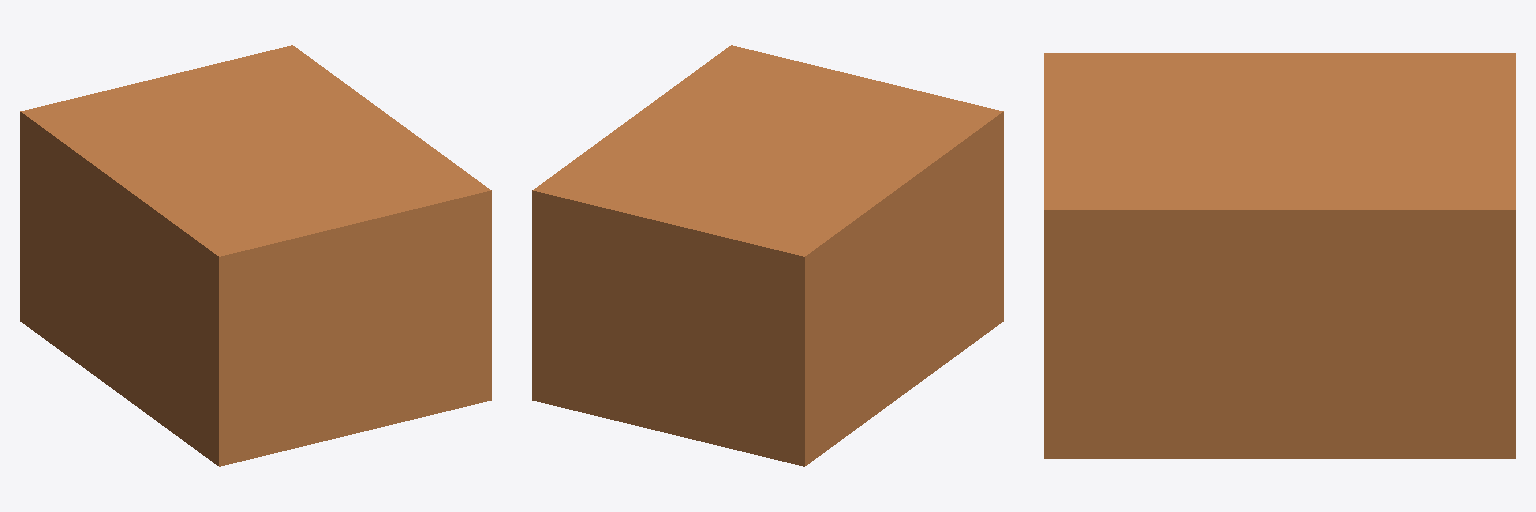
The robot description file, URDF, robot "box":
<?xml version="1.0"?>
<robot name="box">
  <link name="box">
    <visual>
      <material name="wood">
        <color rgba="0.82 0.56 0.35 1.0"/>
      </material>
      <origin xyz="0 0 0"/>
      <geometry>
        <box size="0.475 0.6 0.35"/>
      </geometry>
    </visual>
    <collision>
      <origin xyz="0 0 0"/>
      <geometry>
        <box size="0.475 0.6 0.35"/>
      </geometry>
    </collision>
    <inertial>
      <mass value="500"/>
      <friction value="1.0"/>
      <inertia ixx="1000.0" ixy="0.0" ixz="0.0" iyy="1000.0" iyz="0.0" izz="1000.0"/>
    </inertial>
  </link>
</robot>

--- What the picture shows (computed from the rendered views, not written in the file) ---
The picture shows the robot from 3 angles, left to right: view 1: azimuth 30°, elevation 25°; view 2: azimuth 150°, elevation 25°; view 3: azimuth 270°, elevation 25°; orthographic projection.
Model box with 1 links and 0 joints (none), rooted at box, posed every joint at zero.
Links seen in each view (by area): view 1: box; view 2: box; view 3: box.
Boxes of the visible links, x1,y1,x2,y2 form: box: (20, 45, 491, 466); box: (532, 45, 1003, 466); box: (1044, 53, 1515, 458).
Size in the robot's own frame: 0.475 by 0.6 by 0.35 metres.
Geometry: primitives only (box / cylinder / sphere), no mesh files.
